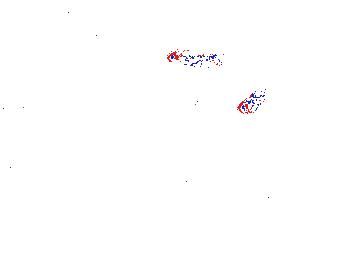red belly glassfish: (166, 48, 227, 69), (236, 89, 269, 114)
redtail glassfish: (61, 4, 126, 36)
